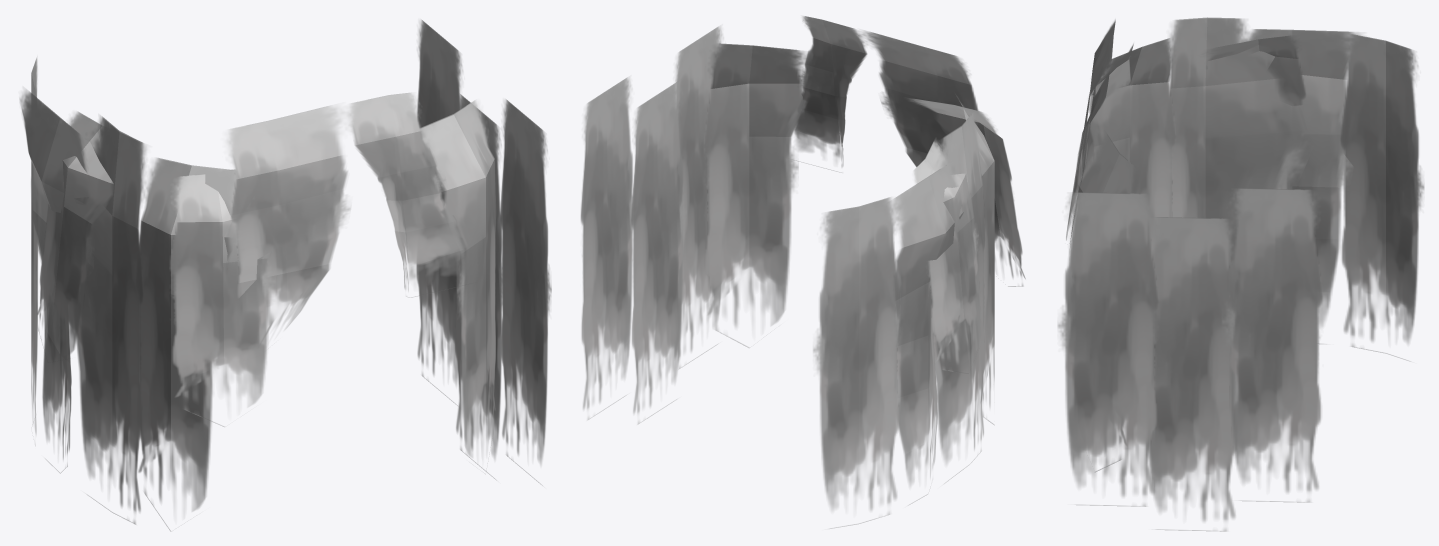
File: MCHead.glb
3 views of the same model, side by side, from view 1: azimuth 30°, elevation 25°; view 2: azimuth 150°, elevation 25°; view 3: azimuth 270°, elevation 25° (orthographic). The views are drawn at different scales.
Visible parts, largest first — view 1: haircard.003, haircard.009, haircard.008, haircard.007, haircard, haircard.006, haircard.005, haircard.012, haircard.010, haircard.002, haircard.001, haircard.011; view 2: haircard.006, haircard.011, haircard.001, haircard.002, haircard.010, haircard, haircard.009, haircard.003, haircard.012, haircard.005, haircard.008, haircard.007; view 3: haircard.002, haircard, haircard.001, haircard.009, haircard.011, haircard.010, haircard.007, haircard.012, haircard.006, haircard.008, haircard.003, haircard.005.
Part boxes in pixels (x1,y1,x2,y2): haircard.003: [225, 104, 350, 335]; haircard.009: [76, 115, 145, 524]; haircard.008: [169, 169, 275, 426]; haircard.007: [138, 158, 237, 531]; haircard: [500, 99, 551, 482]; haircard.006: [420, 100, 496, 457]; haircard.005: [346, 92, 468, 297]; haircard.012: [37, 111, 147, 355]; haircard.010: [19, 89, 93, 473]; haircard.002: [416, 20, 462, 405]; haircard.001: [455, 94, 505, 479]; haircard.011: [31, 58, 37, 445]; haircard.006: [704, 43, 810, 347]; haircard.011: [813, 197, 900, 528]; haircard.001: [631, 81, 686, 424]; haircard.002: [580, 76, 633, 420]; haircard.010: [888, 163, 963, 504]; haircard: [674, 26, 723, 368]; haircard.009: [933, 112, 985, 483]; haircard.003: [861, 30, 978, 166]; haircard.012: [913, 139, 980, 373]; haircard.005: [794, 16, 867, 171]; haircard.008: [908, 98, 1025, 286]; haircard.007: [957, 97, 994, 424]; haircard.002: [1222, 188, 1322, 502]; haircard: [1057, 192, 1158, 506]; haircard.001: [1148, 217, 1235, 531]; haircard.009: [1169, 17, 1307, 269]; haircard.011: [1340, 34, 1424, 360]; haircard.010: [1246, 29, 1362, 326]; haircard.007: [1089, 38, 1175, 263]; haircard.012: [1204, 35, 1305, 105]; haircard.006: [1078, 132, 1134, 471]; haircard.008: [1066, 43, 1133, 240]; haircard.003: [1077, 19, 1115, 191]; haircard.005: [1070, 70, 1109, 244].
Bounding box in the file's own units: 10.54 × 11.06 × 9.5.
1 material, 1 textured.
